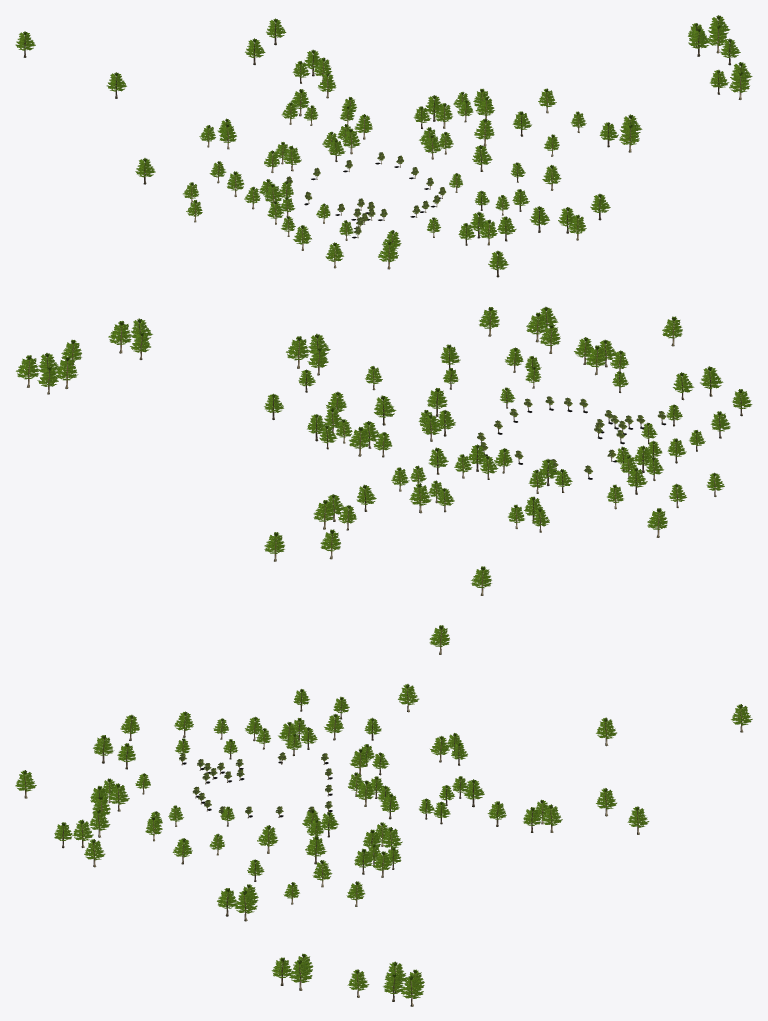
Rendered from Shu.FBX.
3 views of the same model, one above another, from view 1: azimuth 30°, elevation 25°; view 2: azimuth 150°, elevation 25°; view 3: azimuth 270°, elevation 25° (orthographic). The views are drawn at different scales.
Visible parts, largest first — view 1: Box002, Box003; view 2: Box002, Box003; view 3: Box002, Box003.
Part boxes in pixels (box(x1,y1,x2,y2)): Box002: box(15, 15, 752, 270); Box003: box(23, 20, 741, 277); Box002: box(16, 306, 752, 646); Box003: box(27, 311, 742, 654); Box002: box(15, 684, 752, 998); Box003: box(24, 688, 743, 1006).
Size of the model in its own units: 713 by 734 by 35.87.
Materials: 4 (4 with a texture image).
